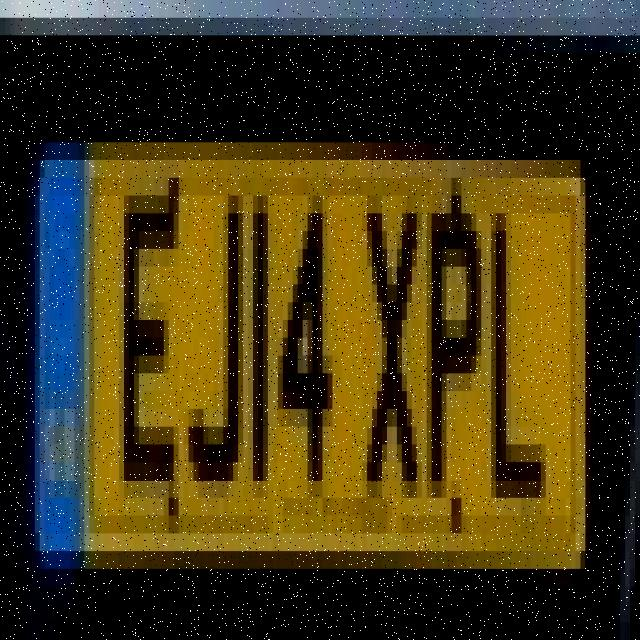licenseplate: (19, 90, 600, 596)
